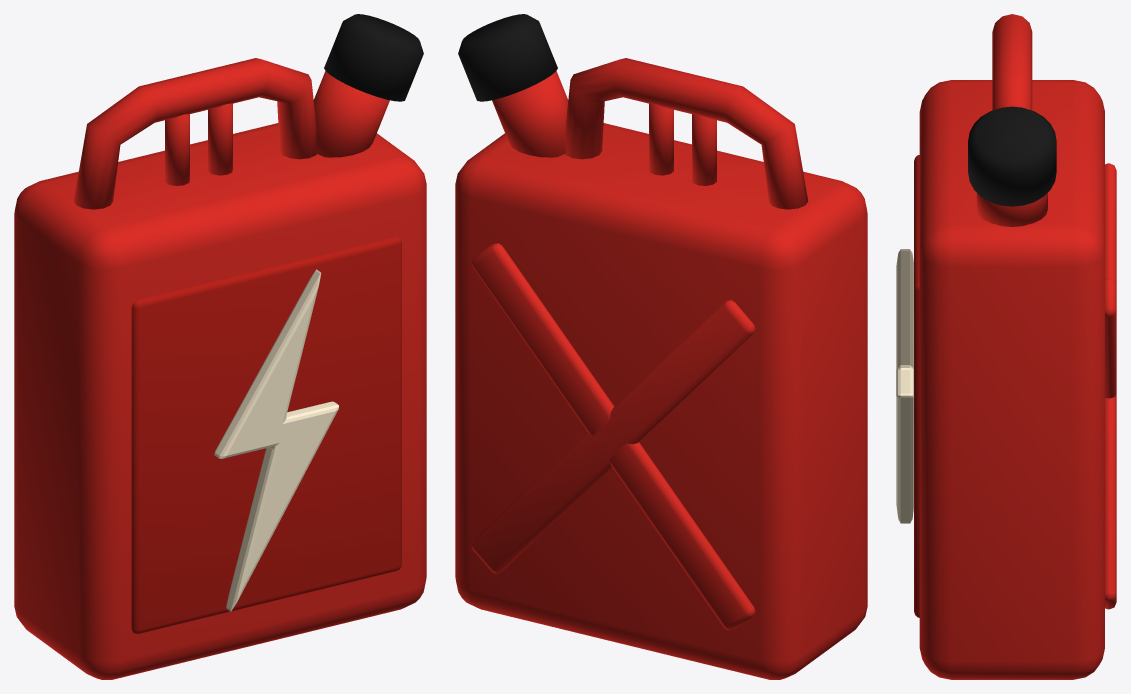
Rendered from Boost_Fuel_Can.fbx.
The picture shows the model from 3 angles, left to right: view 1: azimuth 30°, elevation 25°; view 2: azimuth 150°, elevation 25°; view 3: azimuth 270°, elevation 25°; orthographic projection.
Parts seen in each view (by area): view 1: Can_Body, Can_Front_Panel, Can_Lightning_Bolt, Can_Handle, Can_Spout_Cap, Can_Spout_Neck, Can_Handle_Strut.001, Can_Handle_Strut; view 2: Can_Body, Can_Back_X_Rib_2, Can_Back_X_Rib_1, Can_Handle, Can_Spout_Cap, Can_Spout_Neck, Can_Handle_Strut.001, Can_Handle_Strut; view 3: Can_Body, Can_Spout_Cap, Can_Lightning_Bolt, Can_Back_X_Rib_1, Can_Handle, Can_Front_Panel, Can_Spout_Neck, Can_Back_X_Rib_2.
Boxes of the visible parts, x1=… form: Can_Body: x1=14, y1=123, x2=426, y2=679; Can_Front_Panel: x1=131, y1=237, x2=401, y2=633; Can_Lightning_Bolt: x1=214, y1=269, x2=338, y2=611; Can_Handle: x1=73, y1=58, x2=316, y2=209; Can_Spout_Cap: x1=324, y1=14, x2=423, y2=101; Can_Spout_Neck: x1=313, y1=71, x2=389, y2=157; Can_Handle_Strut.001: x1=208, y1=103, x2=232, y2=175; Can_Handle_Strut: x1=165, y1=114, x2=189, y2=185; Can_Body: x1=455, y1=123, x2=867, y2=679; Can_Back_X_Rib_2: x1=471, y1=243, x2=755, y2=630; Can_Back_X_Rib_1: x1=471, y1=300, x2=755, y2=573; Can_Handle: x1=565, y1=58, x2=808, y2=209; Can_Spout_Cap: x1=458, y1=14, x2=557, y2=101; Can_Spout_Neck: x1=492, y1=71, x2=568, y2=157; Can_Handle_Strut.001: x1=649, y1=103, x2=673, y2=175; Can_Handle_Strut: x1=692, y1=114, x2=716, y2=185; Can_Body: x1=919, y1=80, x2=1104, y2=679; Can_Spout_Cap: x1=968, y1=106, x2=1056, y2=206; Can_Lightning_Bolt: x1=896, y1=249, x2=913, y2=523; Can_Back_X_Rib_1: x1=1105, y1=163, x2=1116, y2=609; Can_Handle: x1=992, y1=14, x2=1032, y2=110; Can_Front_Panel: x1=914, y1=155, x2=919, y2=617; Can_Spout_Neck: x1=976, y1=193, x2=1047, y2=226; Can_Back_X_Rib_2: x1=1105, y1=278, x2=1116, y2=398.
Bounding box in the file's own units: 0.6008 × 0.8782 × 0.3085.
